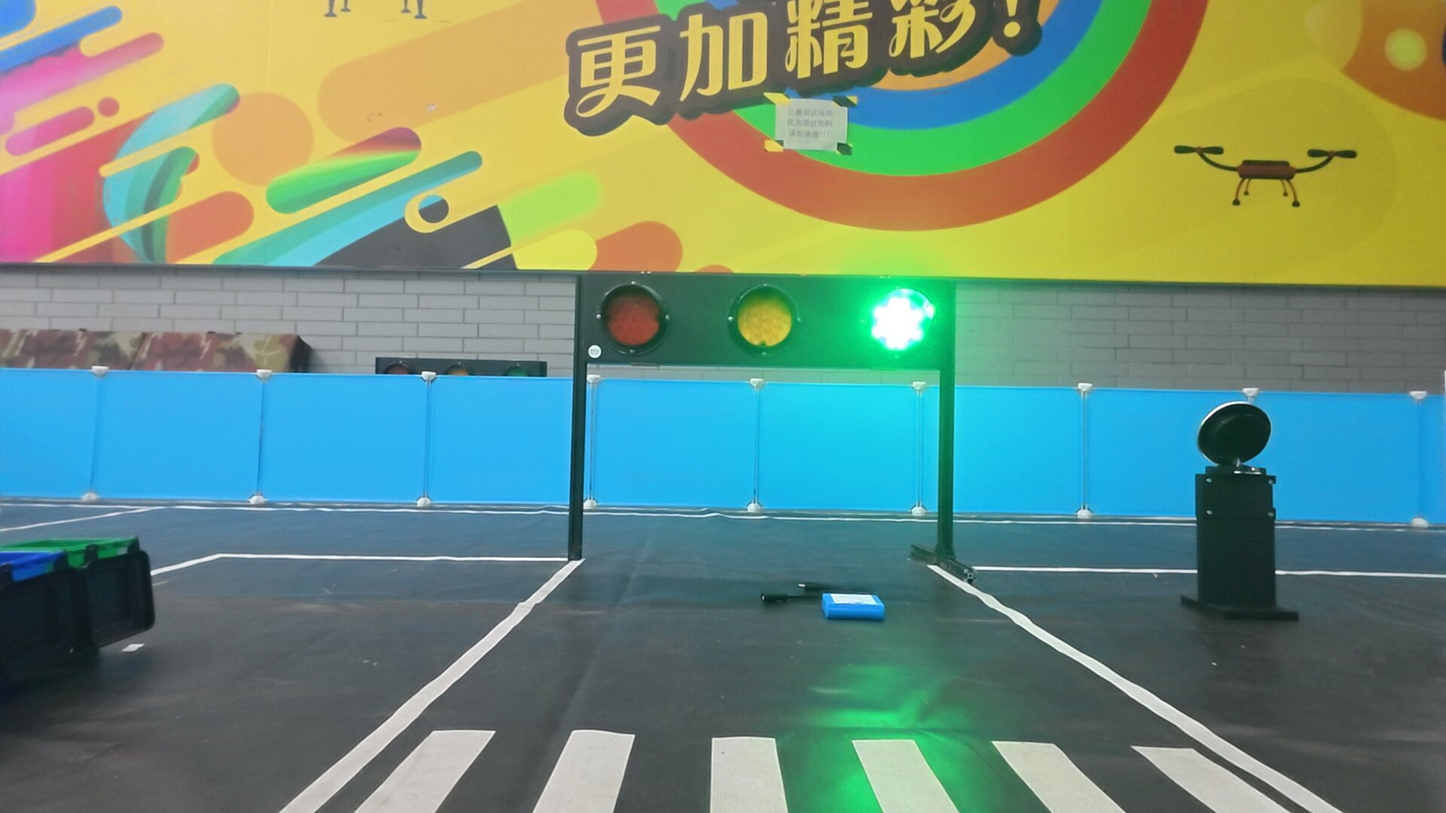go: (862, 283, 939, 361)
